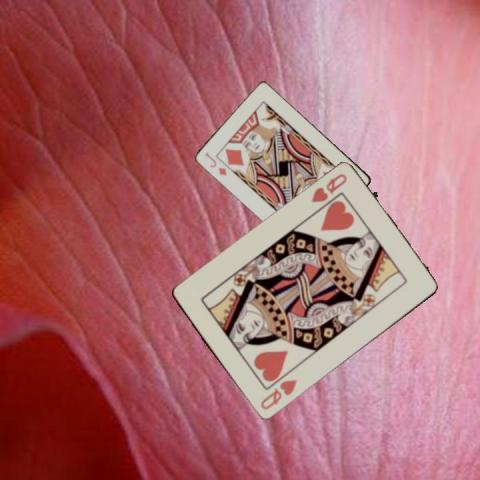Jd: (202, 149, 229, 177)
Qh: (257, 377, 299, 412), (308, 170, 349, 204)
